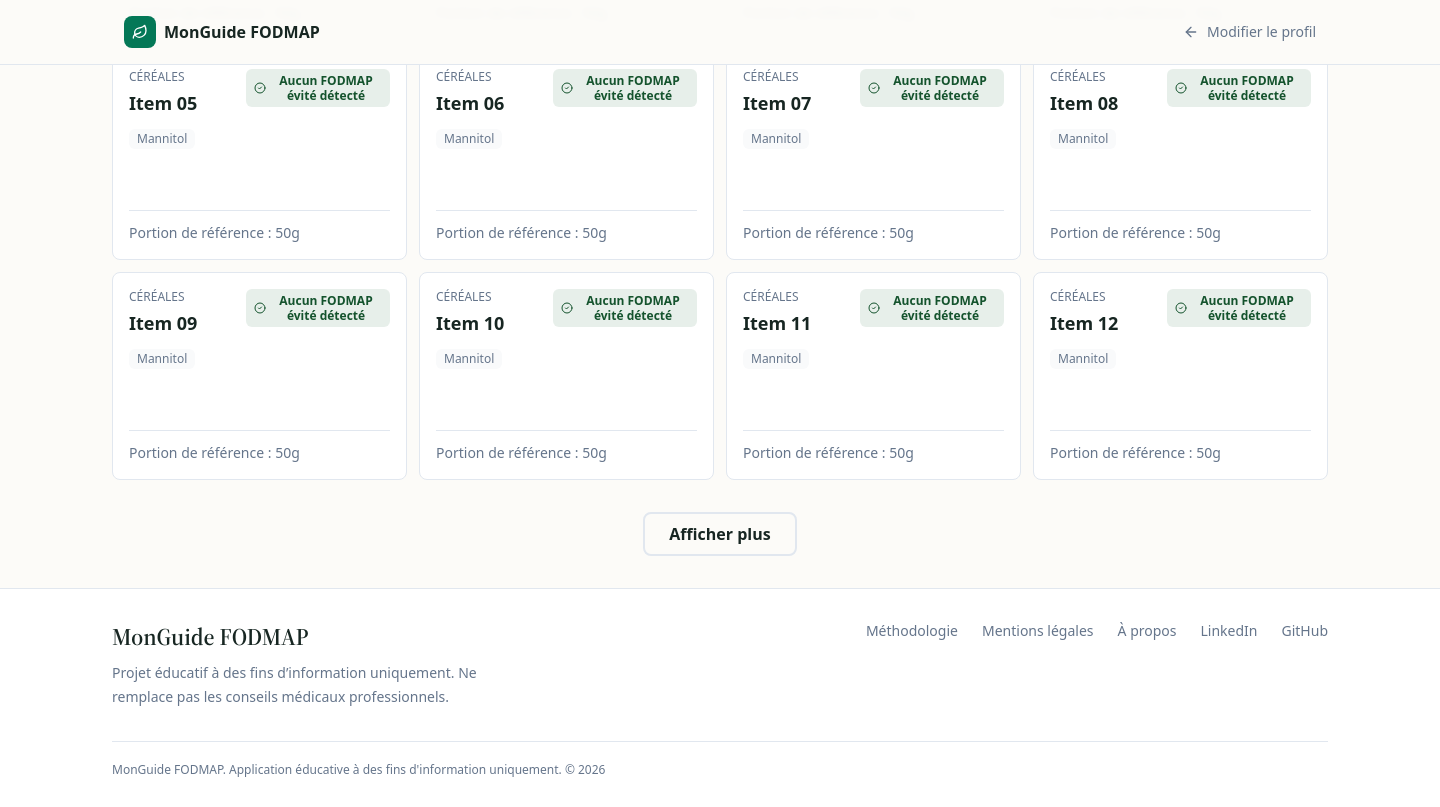
Test: Explorer workflow › resets the visible limit after a search changes the result set
(page scrolled)
Click the button "Afficher plus" at (720, 534), box [643,512,797,556]
(page scrolled)
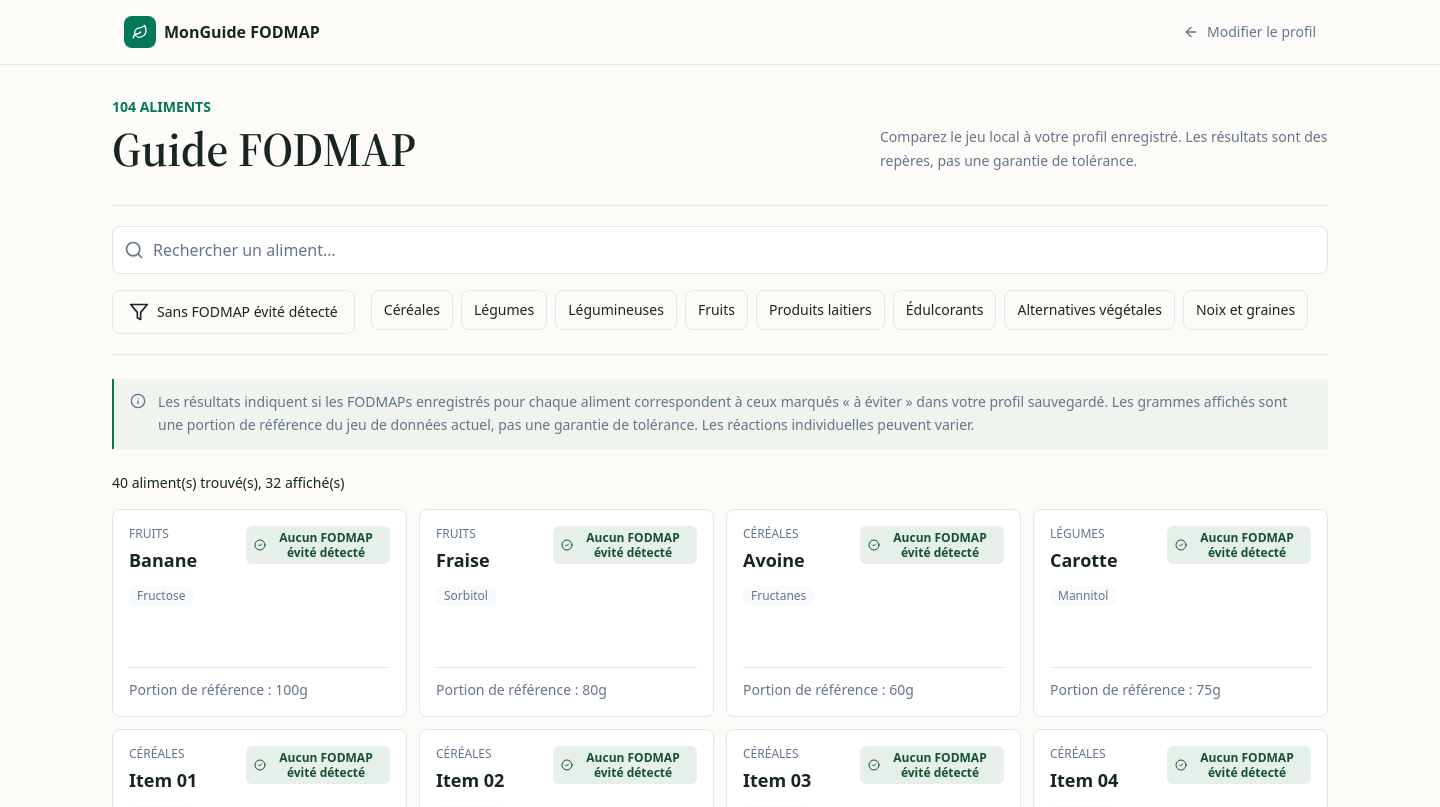
Type "Item" into the search field named "Rechercher des aliments par nom" at (720, 250), box [112,226,1328,274]
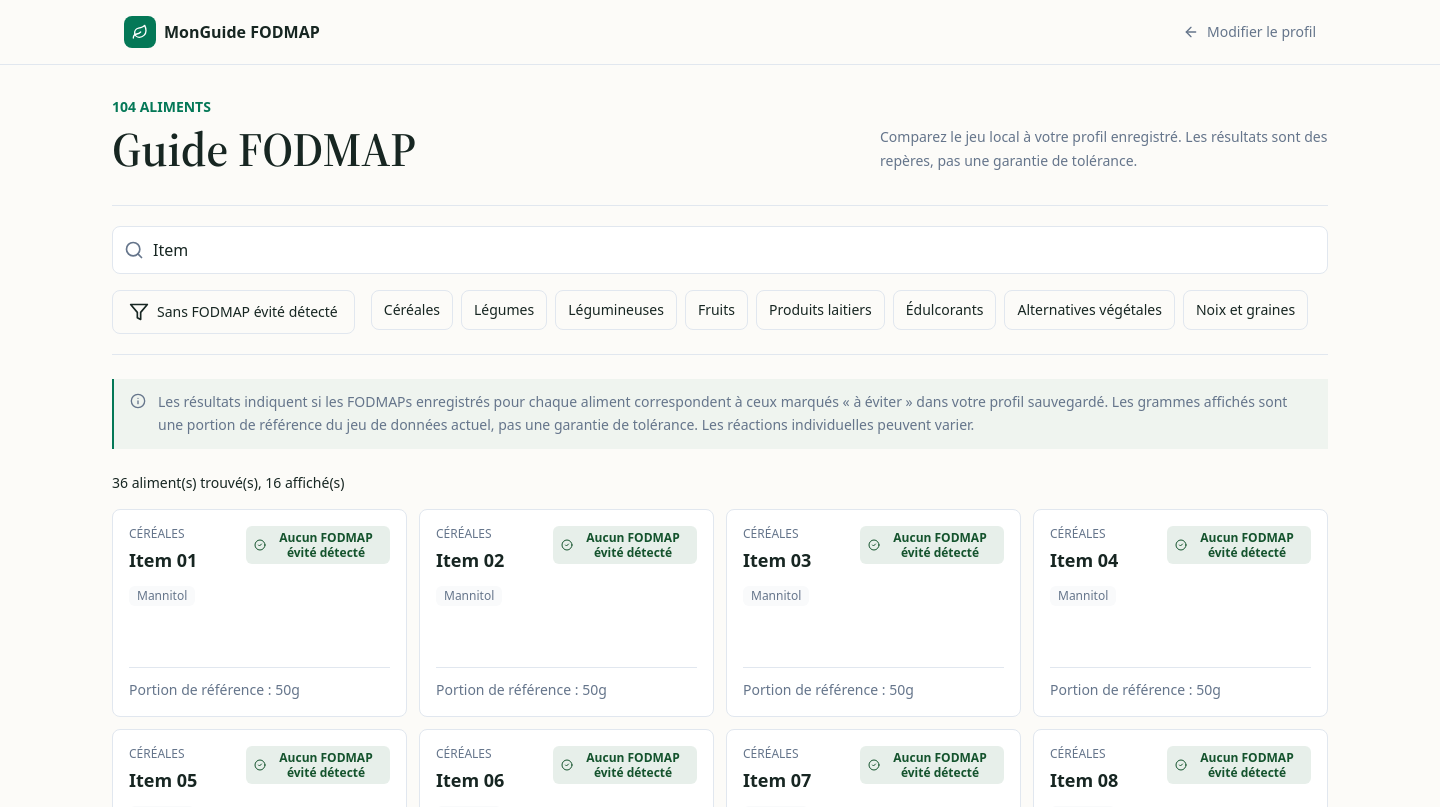
Check: the heading "Item 01" is shown, box [129,546,197,574]
Check: the message shows "36 aliment(s) trouvé(s)", box [112,472,258,492]
Check: the message shows "16 affiché(s)", box [258,472,344,492]
